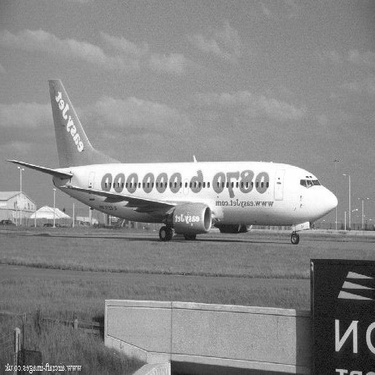airplane: (10, 67, 349, 246)
